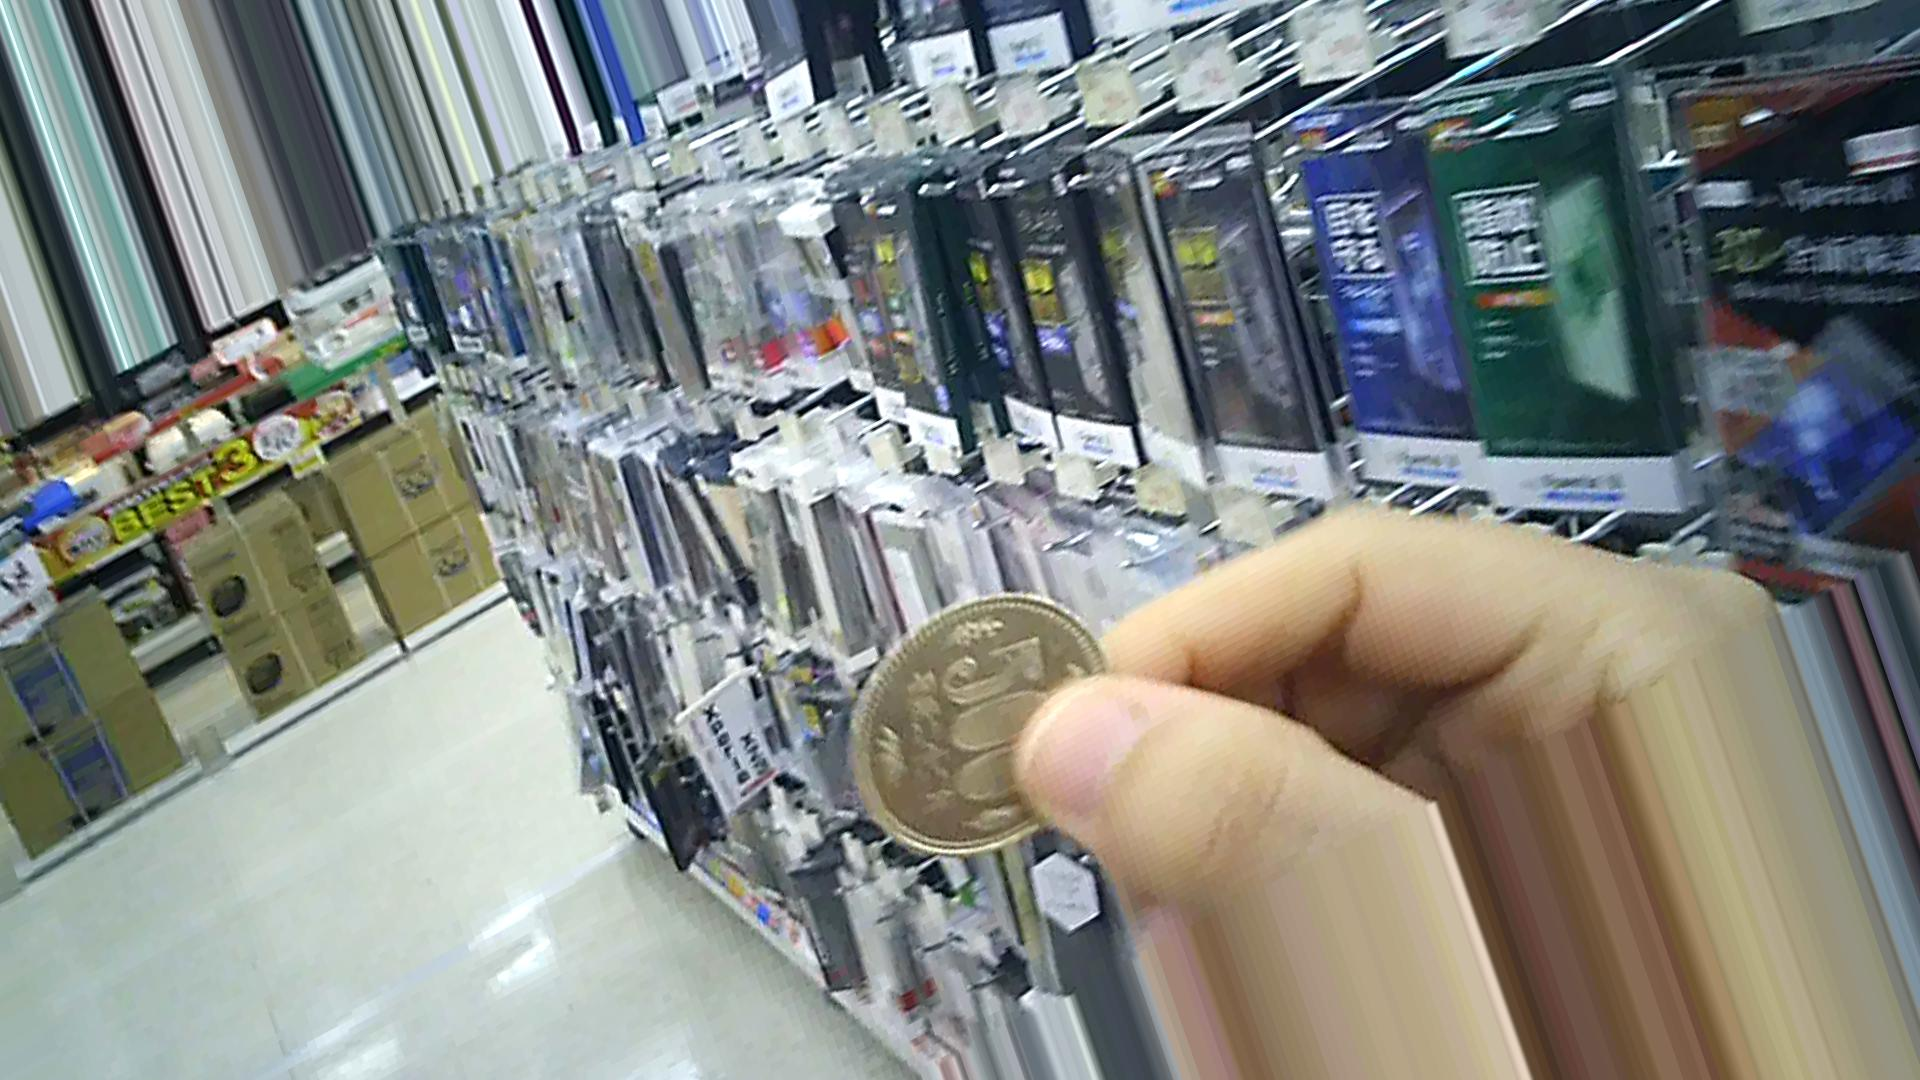500 Yen: (847, 589, 1109, 882)
